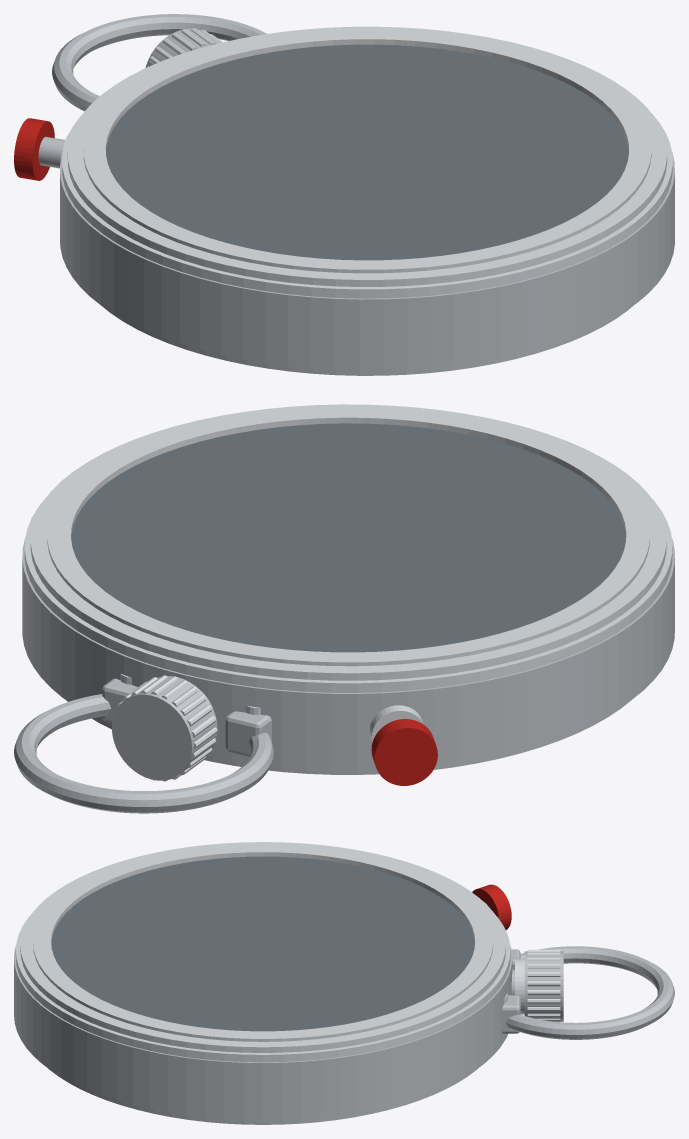
Rendered from A-NEW-20261026-STOPWATCH-001_LOD1_R3.fbx.
The picture shows the model from 3 angles, top to bottom: view 1: azimuth 30°, elevation 25°; view 2: azimuth 150°, elevation 25°; view 3: azimuth 270°, elevation 25°; orthographic projection. The views are drawn at different scales.
Visible parts, largest first — view 1: front crystal, case perimeter wall, crystal retaining lip, bezel upper rim, bezel lower step, closed suspension loop, closed rear shell, red mushroom reset button, reset metal neck, winding crown; view 2: front crystal, case perimeter wall, crystal retaining lip, bezel upper rim, bezel lower step, closed suspension loop, winding crown, red mushroom reset button, closed rear shell, loop anchor lug, reset fixed collar, loop anchor lug.001; view 3: front crystal, case perimeter wall, crystal retaining lip, bezel upper rim, bezel lower step, closed suspension loop, closed rear shell, winding crown, red mushroom reset button, loop anchor lug.001, crown shoulder.
Boxes of the visible parts, x1,y1,x2,y2 form: front crystal: (106,44,628,260); case perimeter wall: (60,152,674,370); crystal retaining lip: (83,29,651,273); bezel upper rim: (67,26,667,286); bezel lower step: (62,114,672,298); closed suspension loop: (52,14,266,111); closed rear shell: (103,306,632,375); red mushroom reset button: (14,118,54,180); reset metal neck: (38,136,64,168); winding crown: (145,28,216,67); front crystal: (71,423,626,652); case perimeter wall: (22,537,674,769); crystal retaining lip: (47,407,649,666); bezel upper rim: (30,404,666,680); bezel lower step: (24,499,672,692); closed suspension loop: (14,694,273,813); winding crown: (112,676,217,780); red mushroom reset button: (371,719,437,785); closed rear shell: (67,701,629,774); loop anchor lug: (225,711,271,756); reset fixed collar: (369,705,423,742); loop anchor lug.001: (102,678,137,722); front crystal: (51,856,474,1031); case perimeter wall: (14,944,512,1120); crystal retaining lip: (33,844,493,1041); bezel upper rim: (20,842,505,1052); bezel lower step: (15,914,510,1062); closed suspension loop: (506,946,674,1039); closed rear shell: (48,1068,478,1124); winding crown: (524,951,563,1021); red mushroom reset button: (472,884,511,930); loop anchor lug.001: (502,995,520,1033); crown shoulder: (515,958,524,1014).
Size of the model in its own units: 5.5 by 1 by 7.29.
